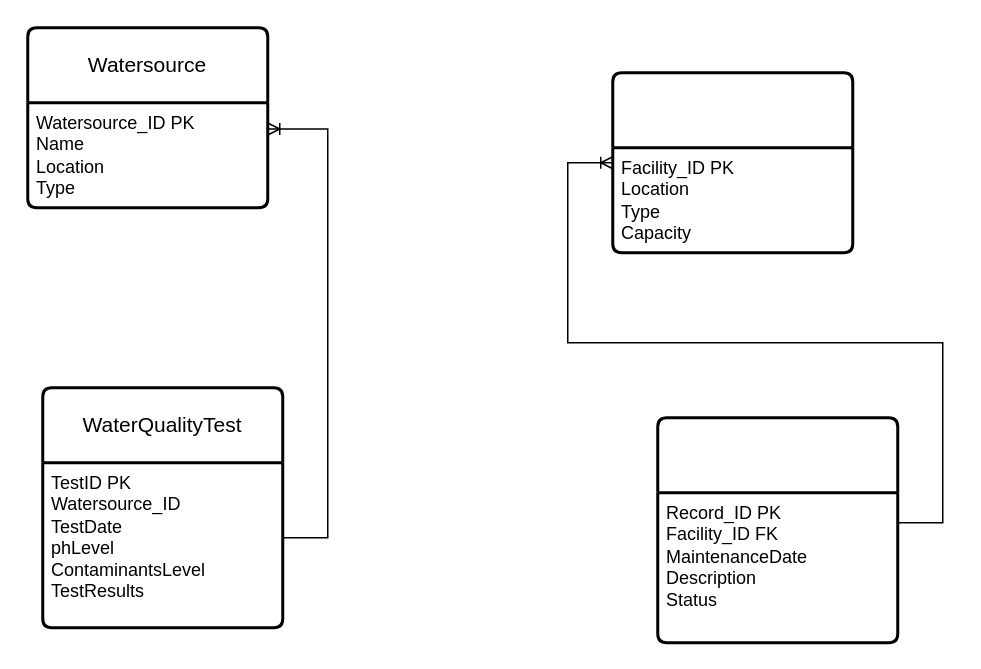
Some shapes in this 981 by 669 pixel diagram are drawn without their labels. The box of each missing label's shape, as (x1, y1, x2, y2) in pixels:
Maintenace Records: (656, 416, 898, 644)
Sanitation Facilities: (610, 70, 854, 254)
